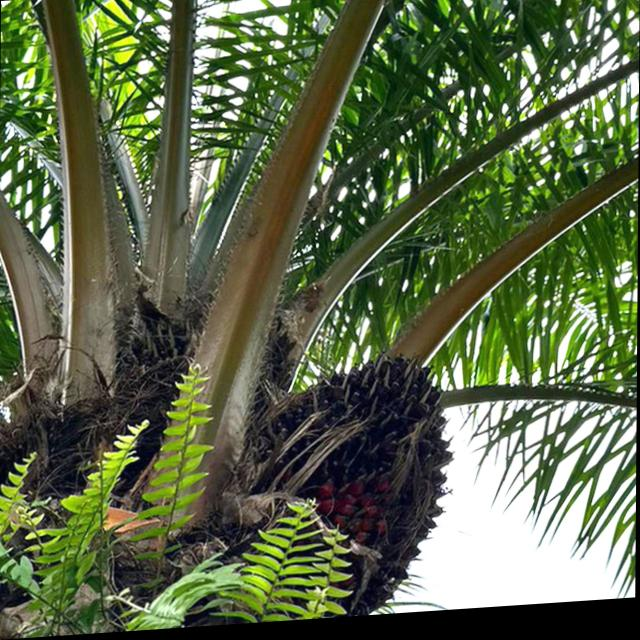ripe: (240, 350, 442, 618)
